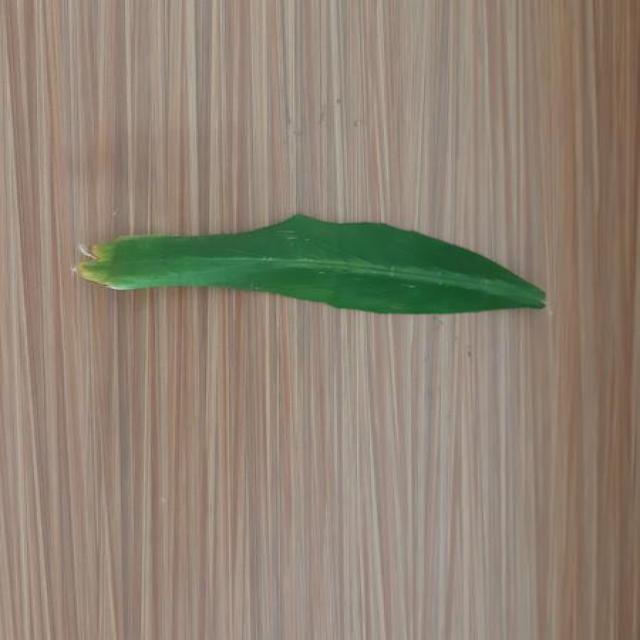ginger: (77, 215, 545, 314)
